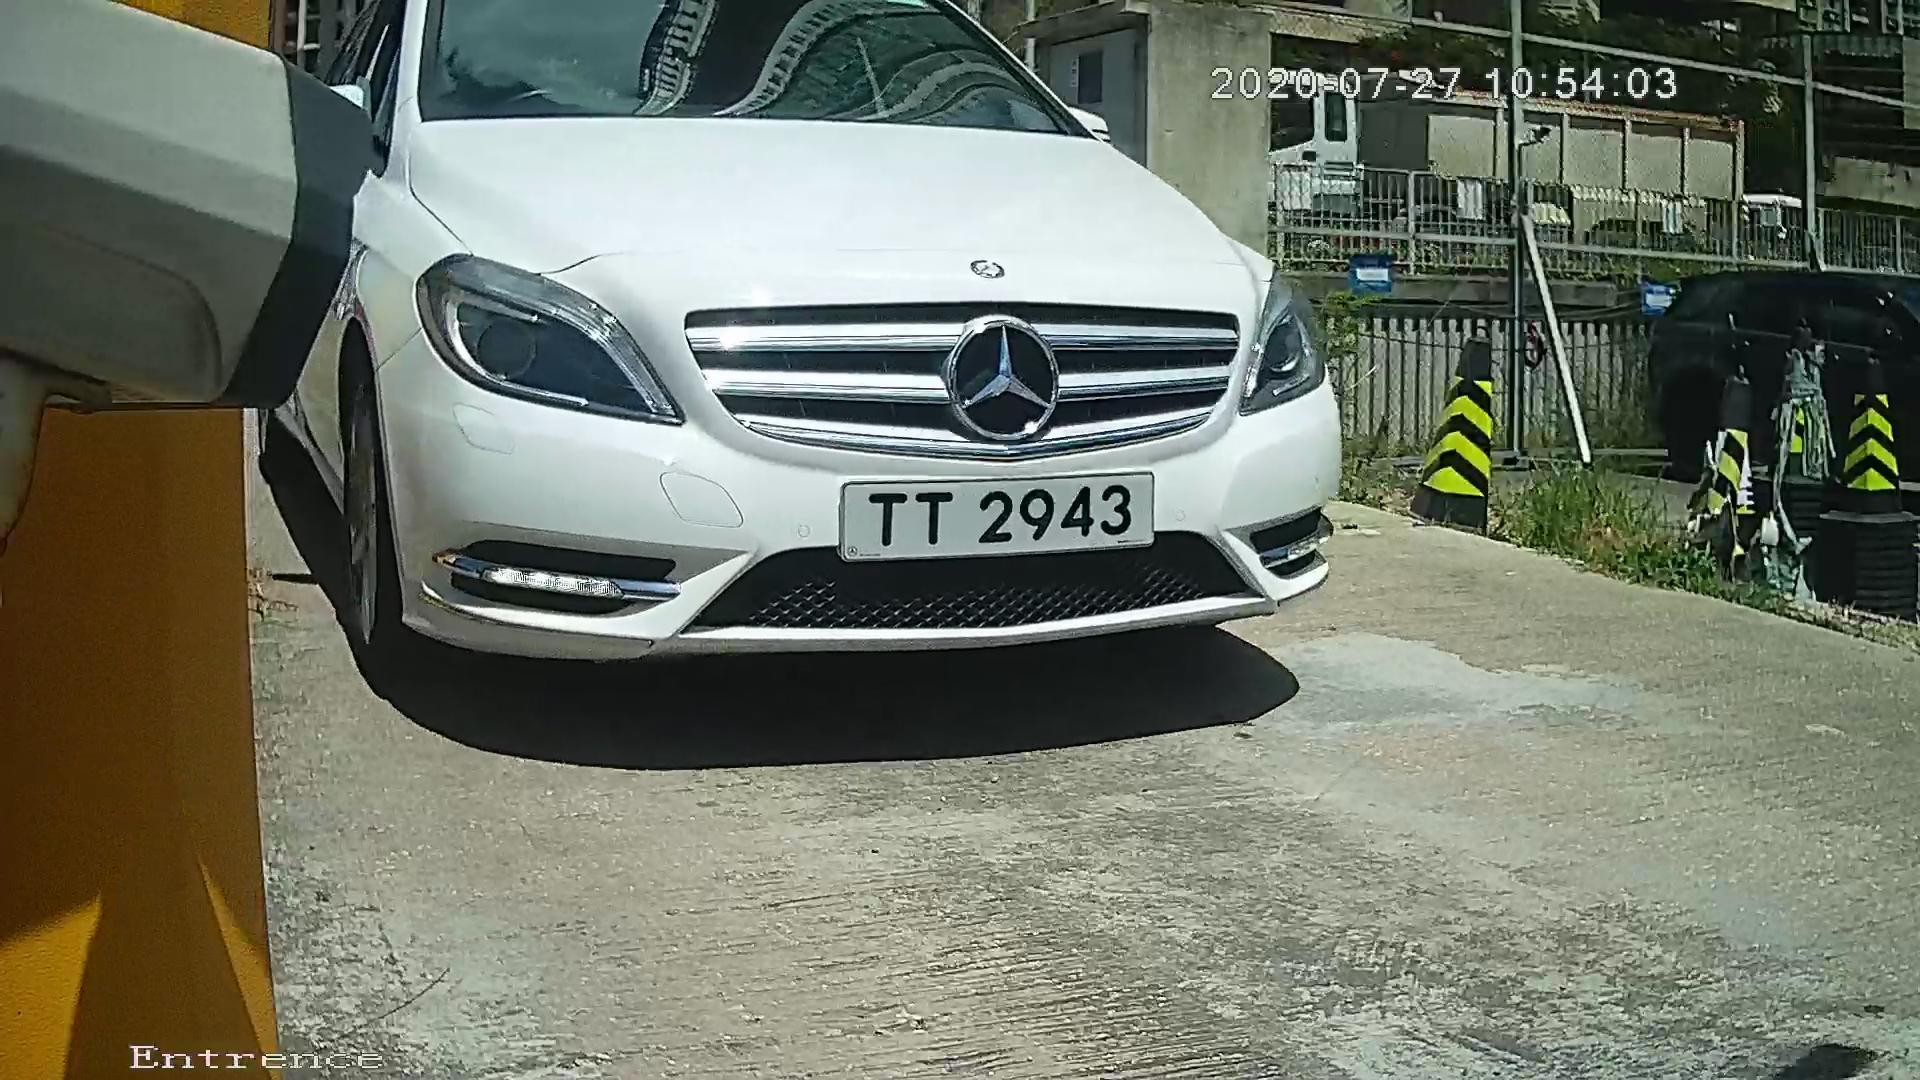License Plate: (806, 463, 1183, 569)
